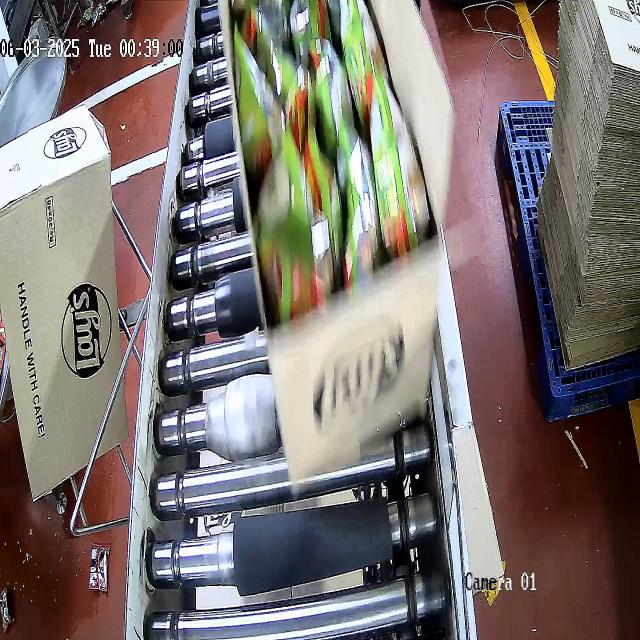YOGURT_HERB: (229, 0, 435, 317)
